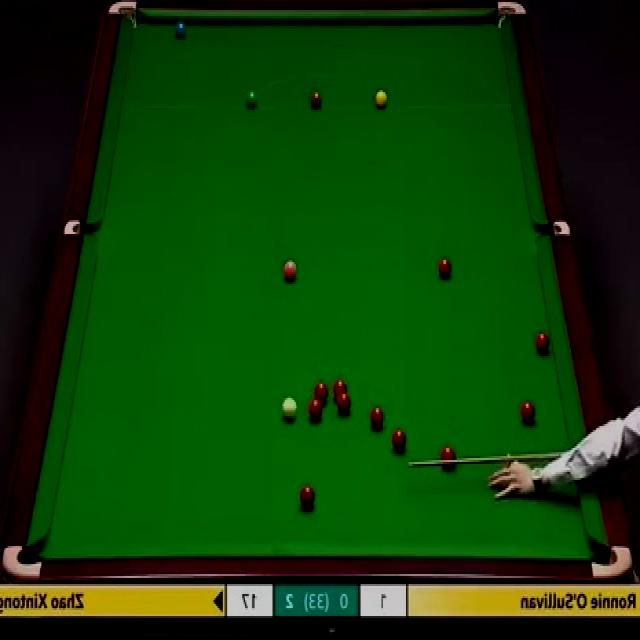blue-ball: (174, 20, 186, 42)
brown-ball: (310, 90, 323, 109)
green-ball: (246, 90, 259, 109)
pink-ball: (281, 259, 298, 283)
red-ball: (438, 443, 456, 472), (436, 257, 454, 285), (519, 398, 535, 424), (393, 429, 408, 455), (535, 333, 550, 358), (299, 485, 315, 508), (371, 404, 385, 428), (335, 394, 350, 415), (333, 378, 348, 399), (314, 381, 328, 403), (310, 397, 323, 418)
white-ball: (282, 397, 298, 421)
yellow-ball: (375, 90, 388, 109)
